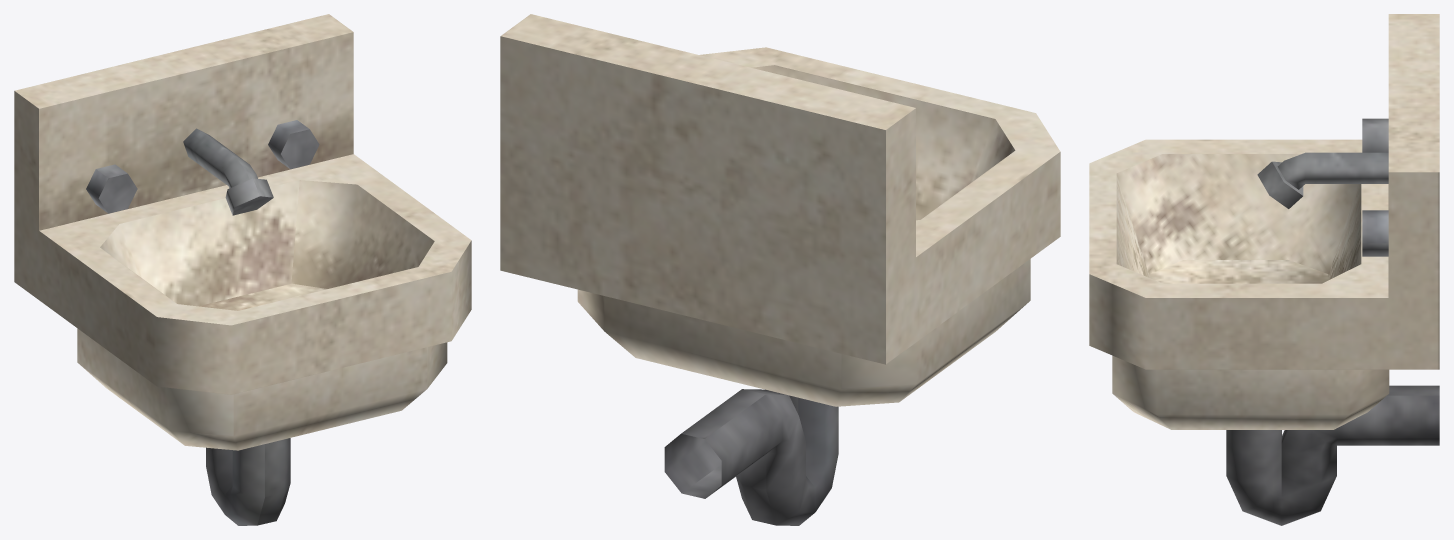
Rendered from Sink.fbx.
3 renders of one model, left to right at view 1: azimuth 30°, elevation 25°; view 2: azimuth 150°, elevation 25°; view 3: azimuth 270°, elevation 25°, orthographic. The views are drawn at different scales.
Visible parts, largest first — view 1: Sink; view 2: Sink; view 3: Sink.
Part boxes in pixels (<box>): Sink: <box>14,14,471,525</box>; Sink: <box>500,14,1060,525</box>; Sink: <box>1089,14,1439,525</box>.
Size of the model in its own units: 57.69 by 72.79 by 53.95.
